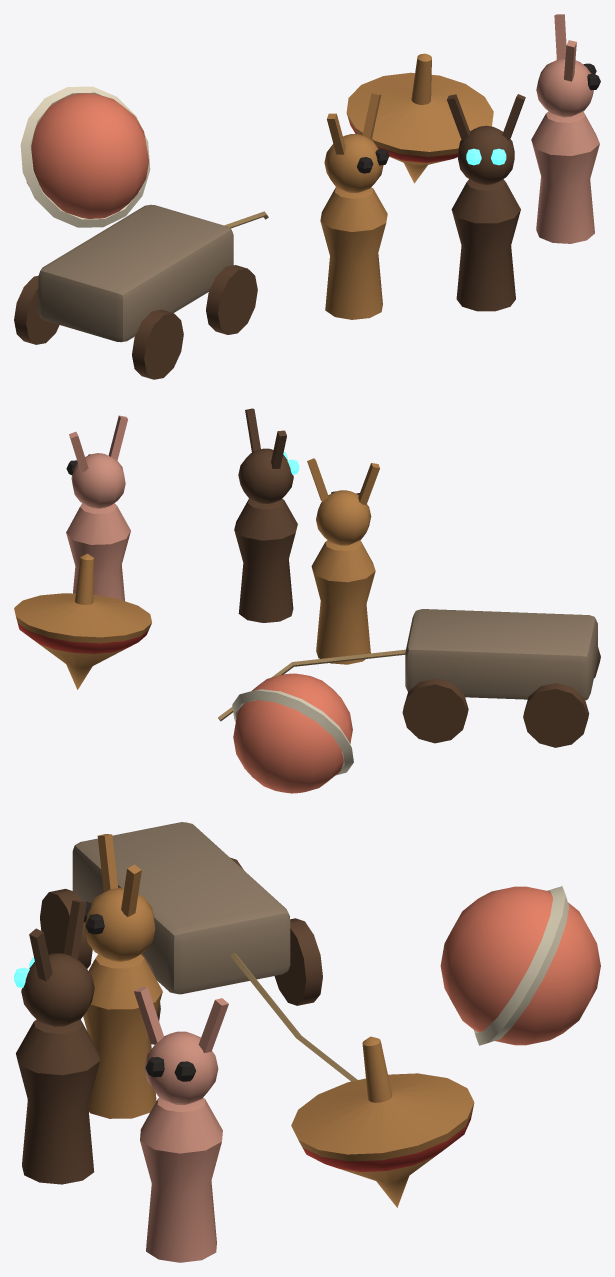
The model's file is deco_toys_scatter.fbx.
3 renders of one model, top to bottom at view 1: azimuth 30°, elevation 25°; view 2: azimuth 150°, elevation 25°; view 3: azimuth 270°, elevation 25°, orthographic. The views are drawn at different scales.
Parts seen in each view (by area): view 1: Toys_Scatter_ToyCart, Toys_Scatter_Ball, Toys_Scatter_Figure2, Toys_Scatter_Figure1, Toys_Scatter_Figure3, Toys_Scatter_SpinningTop; view 2: Toys_Scatter_ToyCart, Toys_Scatter_Ball, Toys_Scatter_Figure2, Toys_Scatter_Figure1, Toys_Scatter_SpinningTop, Toys_Scatter_Figure3; view 3: Toys_Scatter_ToyCart, Toys_Scatter_Ball, Toys_Scatter_Figure2, Toys_Scatter_Figure3, Toys_Scatter_SpinningTop, Toys_Scatter_Figure1.
Boxes of the visible parts, left/top/right/bottom form: Toys_Scatter_ToyCart: left=14, top=204, right=268, bottom=379; Toys_Scatter_Ball: left=20, top=86, right=150, bottom=227; Toys_Scatter_Figure2: left=447, top=94, right=525, bottom=311; Toys_Scatter_Figure1: left=320, top=92, right=389, bottom=319; Toys_Scatter_Figure3: left=531, top=14, right=600, bottom=243; Toys_Scatter_SpinningTop: left=346, top=53, right=493, bottom=183; Toys_Scatter_ToyCart: left=218, top=609, right=600, bottom=747; Toys_Scatter_Ball: left=232, top=673, right=353, bottom=793; Toys_Scatter_Figure2: left=234, top=408, right=299, bottom=622; Toys_Scatter_Figure1: left=307, top=458, right=379, bottom=664; Toys_Scatter_SpinningTop: left=14, top=553, right=151, bottom=689; Toys_Scatter_Figure3: left=66, top=415, right=130, bottom=600; Toys_Scatter_ToyCart: left=40, top=822, right=357, bottom=1081; Toys_Scatter_Ball: left=440, top=886, right=600, bottom=1045; Toys_Scatter_Figure2: left=14, top=900, right=100, bottom=1184; Toys_Scatter_Figure3: left=134, top=987, right=228, bottom=1262; Toys_Scatter_SpinningTop: left=291, top=1036, right=474, bottom=1207; Toys_Scatter_Figure1: left=83, top=834, right=162, bottom=1118.
Bounding box in the file's own units: 132 × 45.36 × 95.14.
